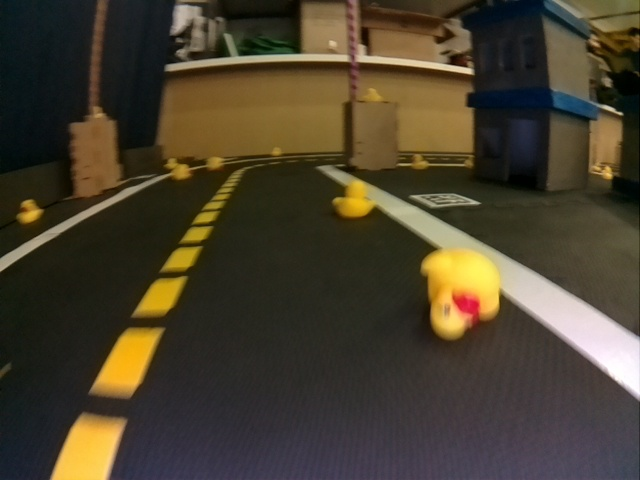Duckie: (422, 249, 501, 338), (332, 180, 373, 218), (17, 200, 41, 223), (411, 154, 427, 170), (172, 165, 189, 180), (364, 88, 381, 102), (208, 157, 223, 171), (464, 155, 474, 169), (602, 167, 612, 180), (164, 158, 179, 166), (272, 148, 280, 156)
QR code: (411, 194, 479, 207)
